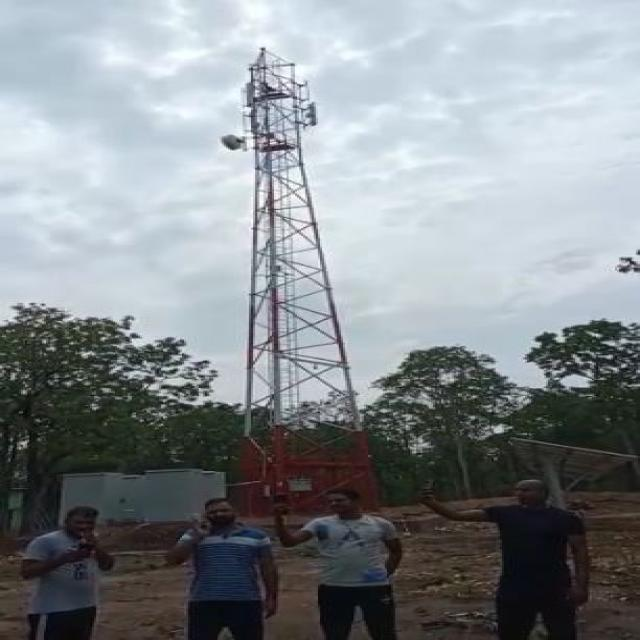Microwave Antenna: (212, 131, 248, 151)
